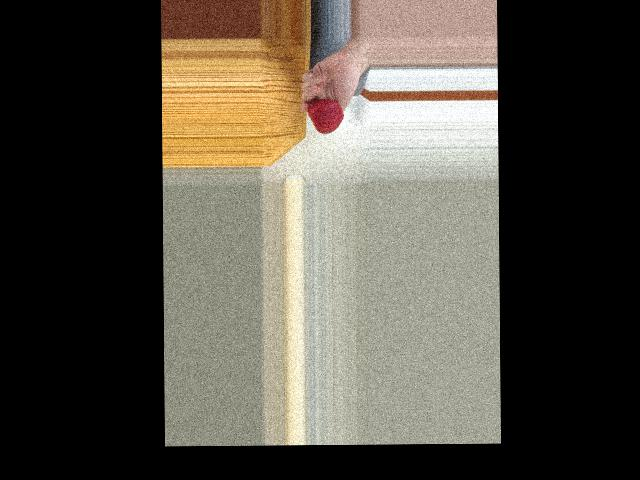apple: (307, 98, 344, 135)
